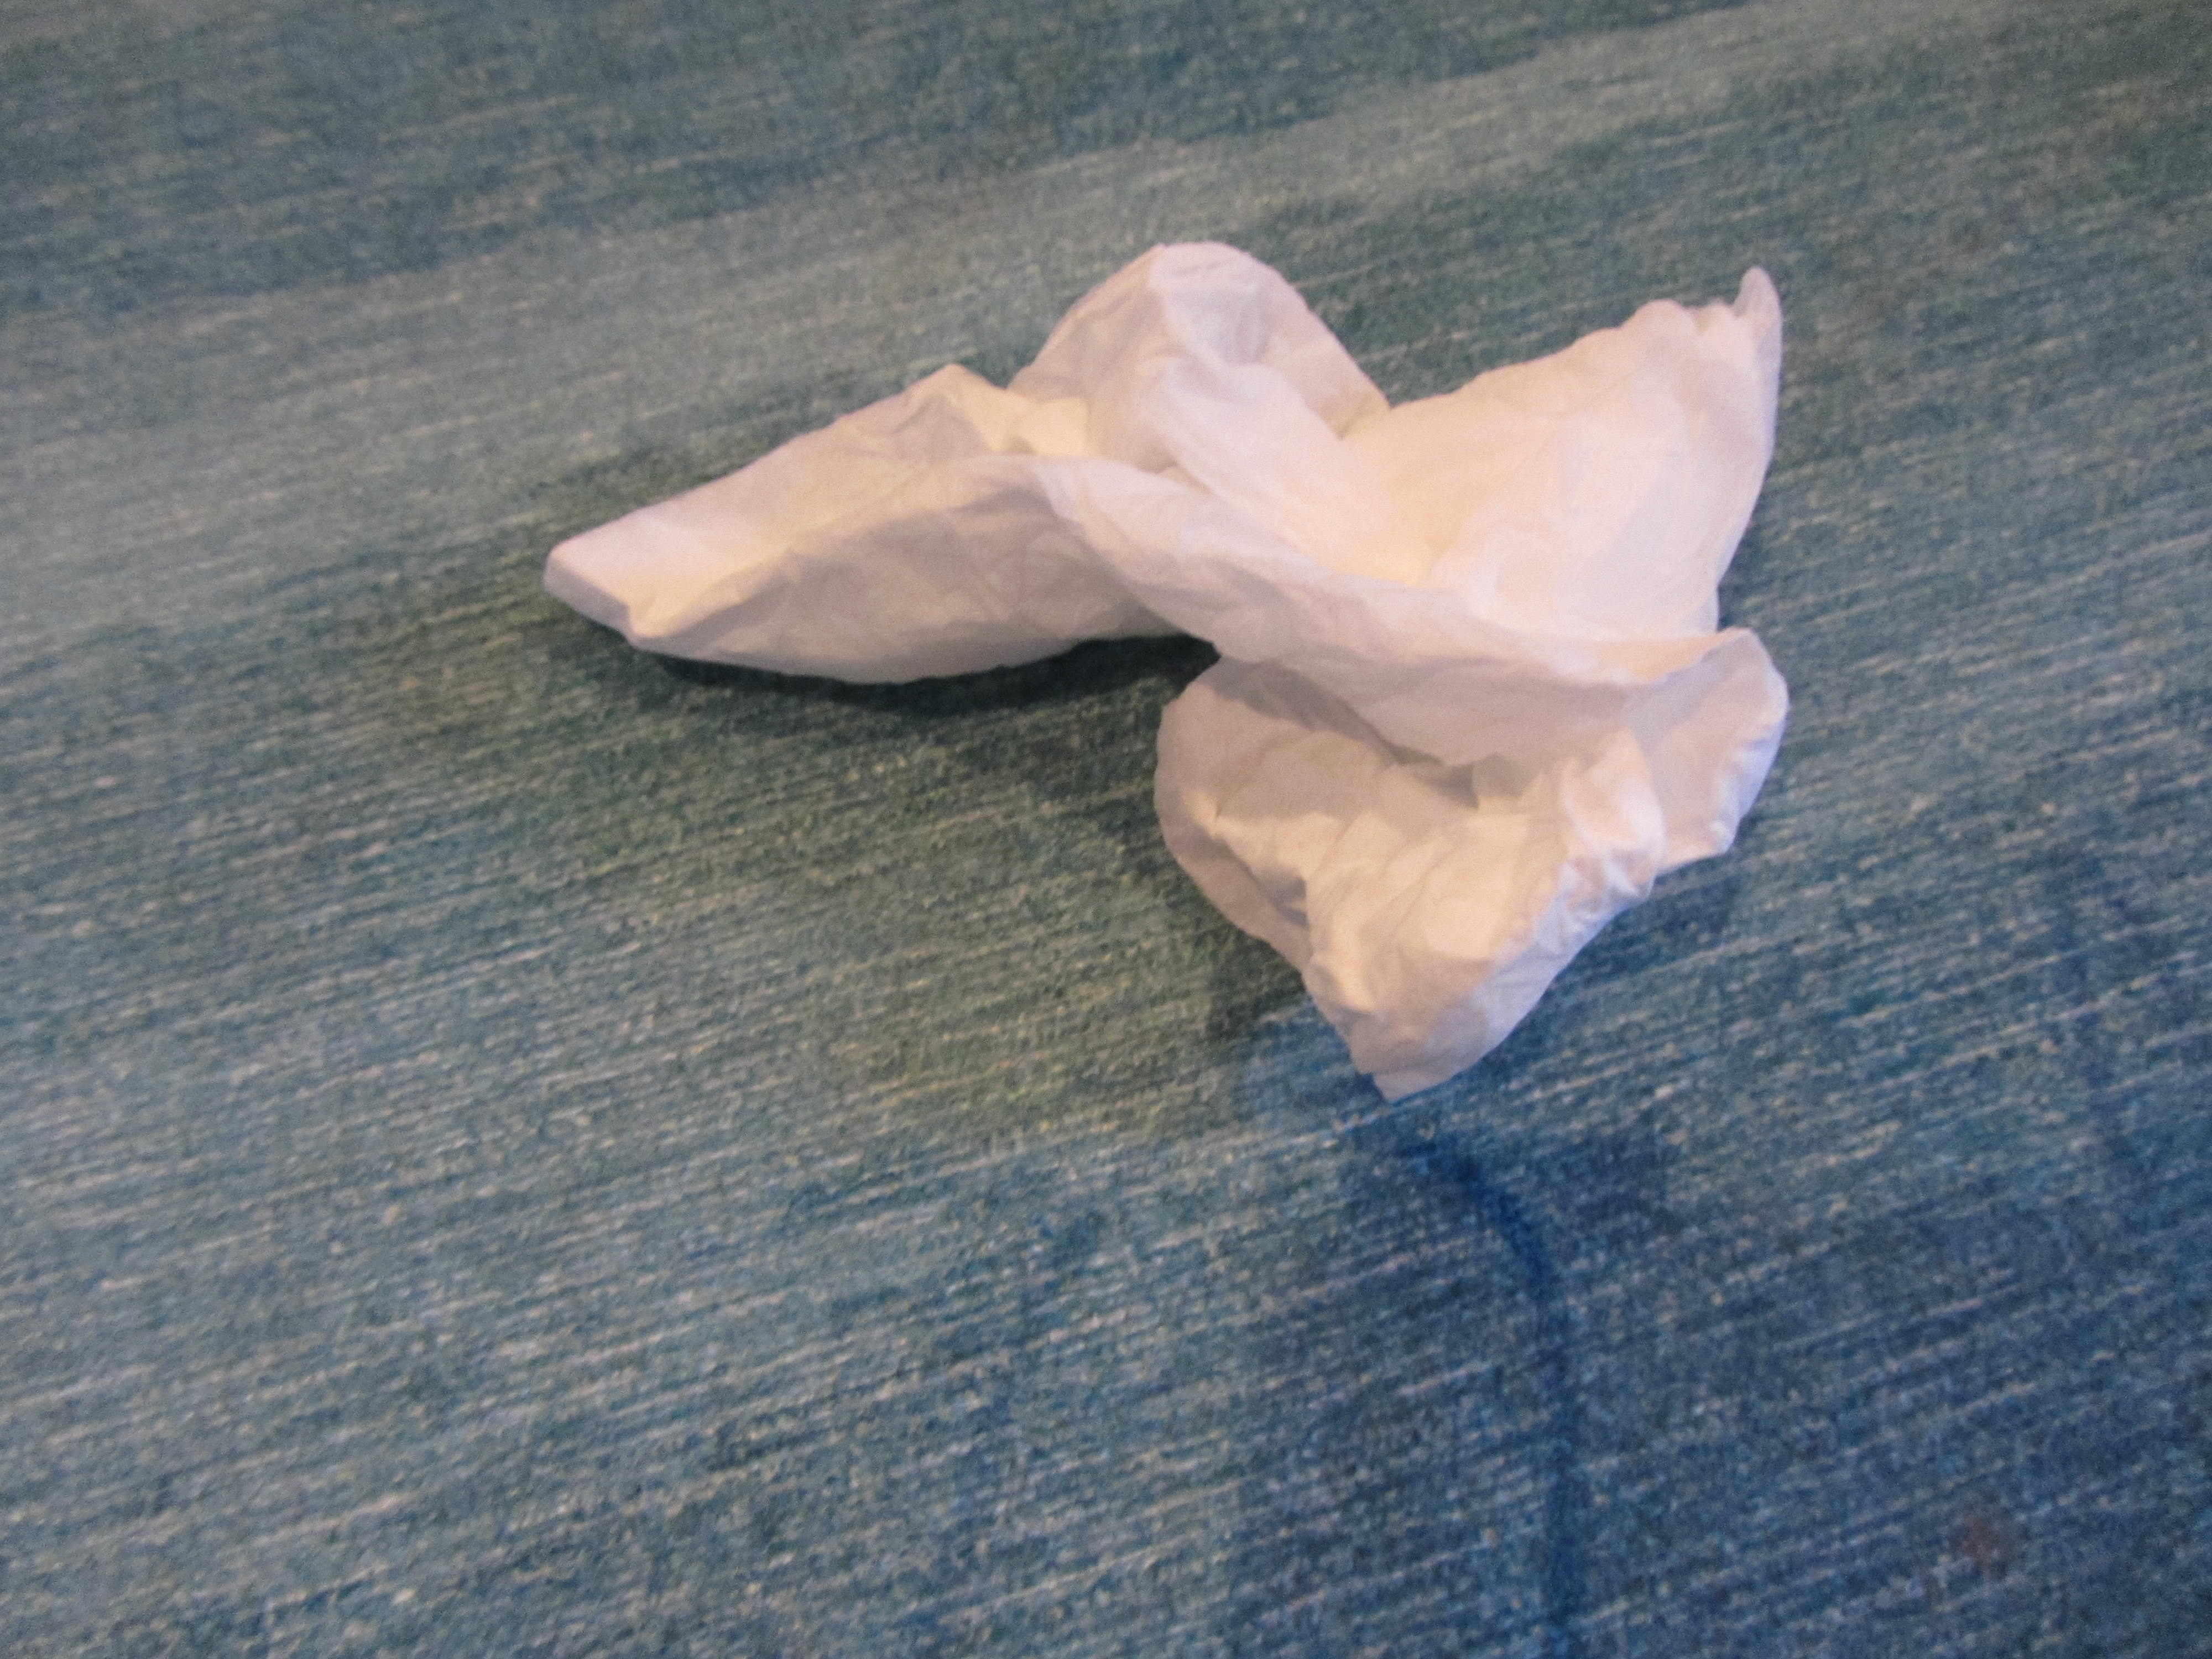tissue: (523, 240, 1787, 1124)
